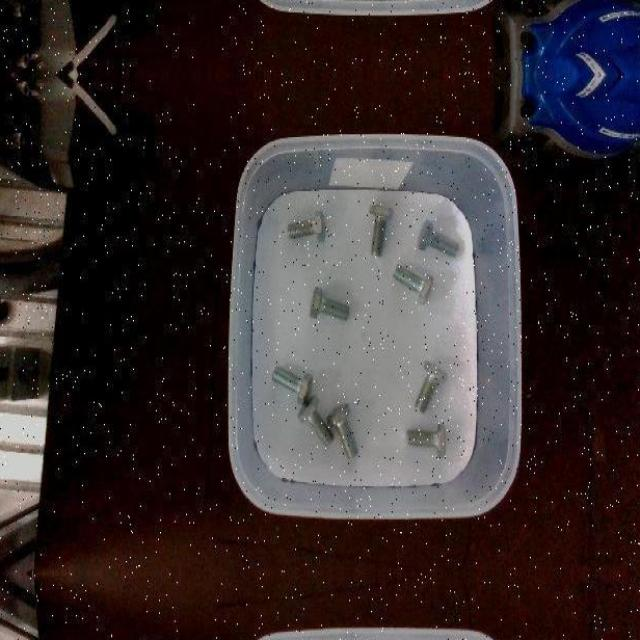screw: (297, 395, 335, 447), (414, 358, 449, 414), (326, 402, 358, 459), (393, 264, 433, 305), (417, 219, 459, 258), (271, 364, 311, 404), (406, 423, 447, 458), (310, 286, 350, 320), (369, 202, 394, 256), (287, 210, 326, 243)
